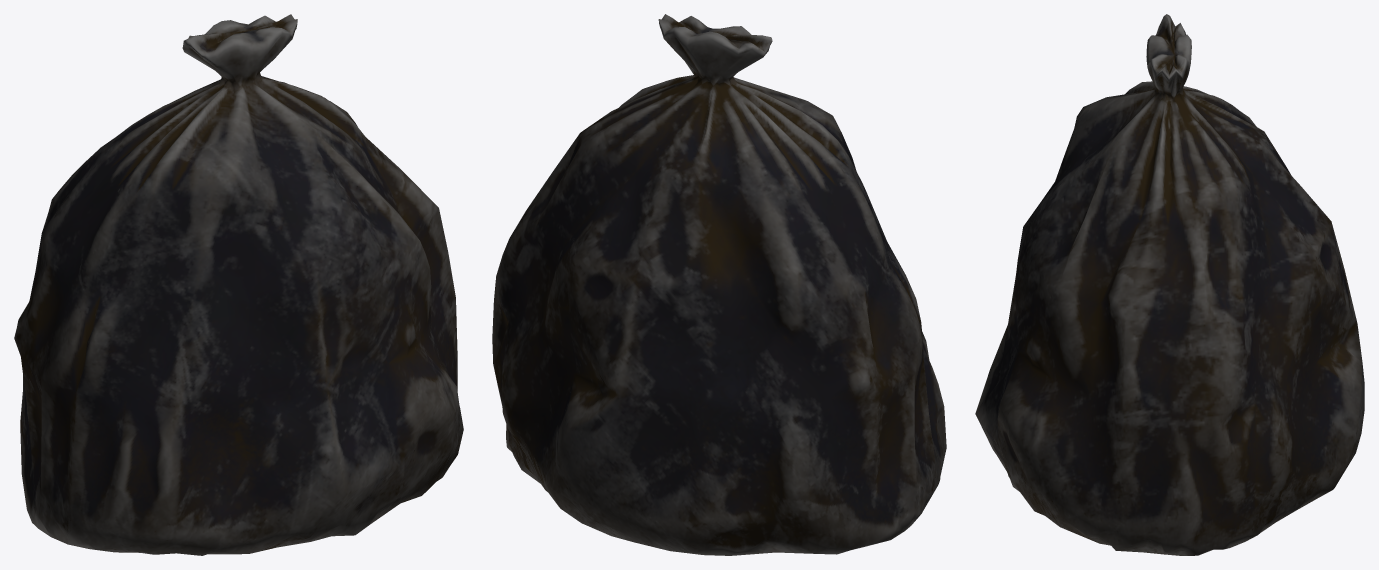
Rendered from SM_GarbageBag.fbx.
3 views of the same model, side by side, from view 1: azimuth 30°, elevation 25°; view 2: azimuth 150°, elevation 25°; view 3: azimuth 270°, elevation 25° (orthographic). The views are drawn at different scales.
Parts seen in each view (by area): view 1: SM_GarbageBag_LOD0; view 2: SM_GarbageBag_LOD0; view 3: SM_GarbageBag_LOD0.
Boxes of the visible parts, <box> form: SM_GarbageBag_LOD0: <box>14,14,463,555</box>; SM_GarbageBag_LOD0: <box>492,14,946,555</box>; SM_GarbageBag_LOD0: <box>975,14,1364,555</box>.
Bounding box in the file's own units: 85.16 × 74.42 × 93.28.
1 material, 1 textured.
